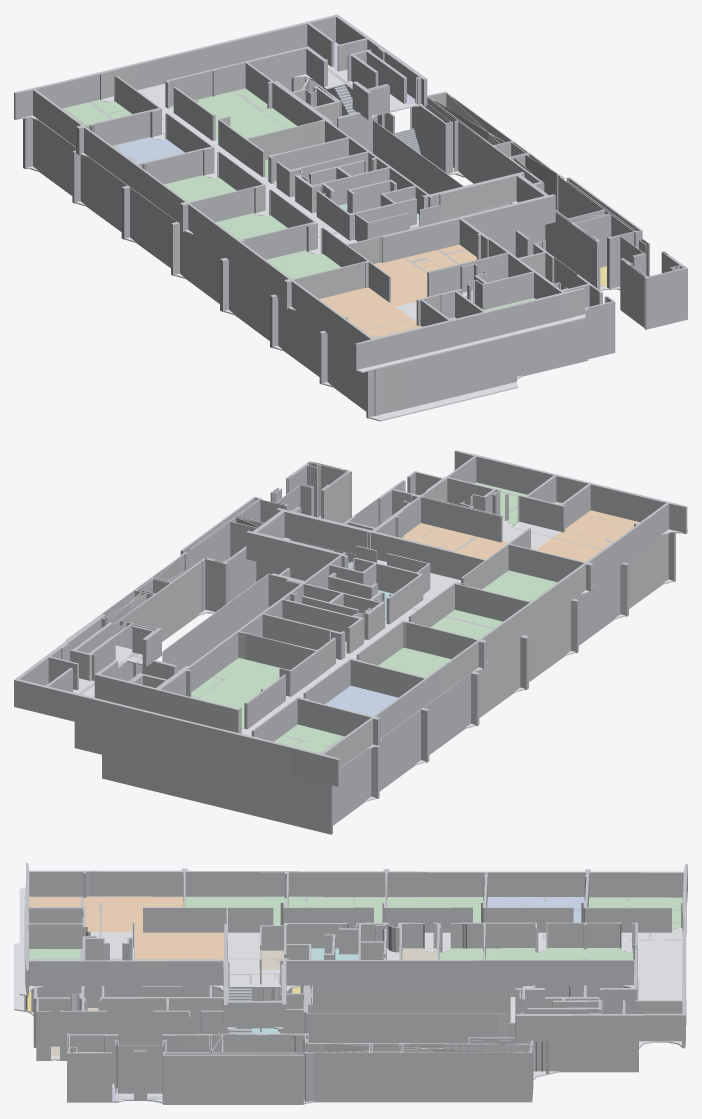
Rendered from BlocoA.glb.
3 renders of one model, top to bottom at view 1: azimuth 30°, elevation 25°; view 2: azimuth 150°, elevation 25°; view 3: azimuth 270°, elevation 25°, orthographic. The views are drawn at different scales.
Visible parts, largest first — view 1: A2 — Paredes, A0 — Paredes, A2 — Circulação, A2 — Of. Aprendizagem Montagem, Soldagem e Cravação, A2 — Lab. Desenvolvimento de Sistemas, A2 — Oficina de Baixa e Alta Fusão, A0 — Circulação, A2 — Lab. Manufatura Aditiva, A2 — Lab. Informática 10A, A2 — Lab. Modelagem 3D, A2 — Aulas Gerais 7A, A2 — Lab. Informática 5A (+1 smaller); view 2: A2 — Paredes, A0 — Paredes, A2 — Of. Aprendizagem Montagem, Soldagem e Cravação, A2 — Lab. Desenvolvimento de Sistemas, A2 — Circulação, A2 — Oficina de Baixa e Alta Fusão, A2 — Lab. Manufatura Aditiva, A2 — Aulas Gerais 7A, A2 — Lab. Informática 10A, A2 — Lab. Modelagem 3D, A2 — Lab. Informática 5A, A2 — Circulação.001; view 3: A2 — Paredes, A0 — Paredes, A2 — Circulação, A2 — Of. Aprendizagem Montagem, Soldagem e Cravação, A2 — Oficina de Baixa e Alta Fusão, A2 — Lab. Desenvolvimento de Sistemas, A0 — Circulação, A2 — Lab. Manufatura Aditiva, A2 — Lab. Modelagem 3D, A2 — Lab. Informática 5A, A2 — Aulas Gerais 7A, A2 — Lab. Informática 10A (+6 smaller).
Part boxes in pixels (x1,y1,x2,y2): A2 — Paredes: (14,14,584,371); A0 — Paredes: (23,68,687,418); A2 — Circulação: (20,64,585,372); A2 — Of. Aprendizagem Montagem, Soldagem e Cravação: (319,287,421,338); A2 — Lab. Desenvolvimento de Sistemas: (170,88,296,139); A2 — Oficina de Baixa e Alta Fusão: (374,244,476,305); A0 — Circulação: (26,166,620,421); A2 — Lab. Manufatura Aditiva: (266,250,340,278); A2 — Lab. Informática 10A: (164,175,236,201); A2 — Lab. Modelagem 3D: (216,213,287,239); A2 — Aulas Gerais 7A: (116,137,184,163); A2 — Lab. Informática 5A: (64,99,131,124); A2 — Paredes: (14,450,687,786); A0 — Paredes: (66,461,675,834); A2 — Of. Aprendizagem Montagem, Soldagem e Cravação: (534,510,639,561); A2 — Lab. Desenvolvimento de Sistemas: (191,658,279,728); A2 — Circulação: (74,529,687,748); A2 — Oficina de Baixa e Alta Fusão: (402,523,534,559); A2 — Lab. Manufatura Aditiva: (482,570,556,600); A2 — Aulas Gerais 7A: (325,685,397,716); A2 — Lab. Informática 10A: (378,648,450,677); A2 — Lab. Modelagem 3D: (430,610,502,639); A2 — Lab. Informática 5A: (274,724,342,753); A2 — Circulação.001: (502,520,560,549); A2 — Paredes: (25,863,687,1041); A0 — Paredes: (24,893,685,1104); A2 — Circulação: (19,887,682,1030); A2 — Of. Aprendizagem Montagem, Soldagem e Cravação: (29,896,183,932); A2 — Oficina de Baixa e Alta Fusão: (135,932,224,960); A2 — Lab. Desenvolvimento de Sistemas: (485,948,633,959); A0 — Circulação: (14,943,681,1103); A2 — Lab. Manufatura Aditiva: (185,896,286,925); A2 — Lab. Modelagem 3D: (288,896,385,922); A2 — Lab. Informática 5A: (588,897,681,930); A2 — Aulas Gerais 7A: (487,897,584,922); A2 — Lab. Informática 10A: (387,897,483,922).
Bounding box in the file's own units: 383 × 78.5 × 650.
